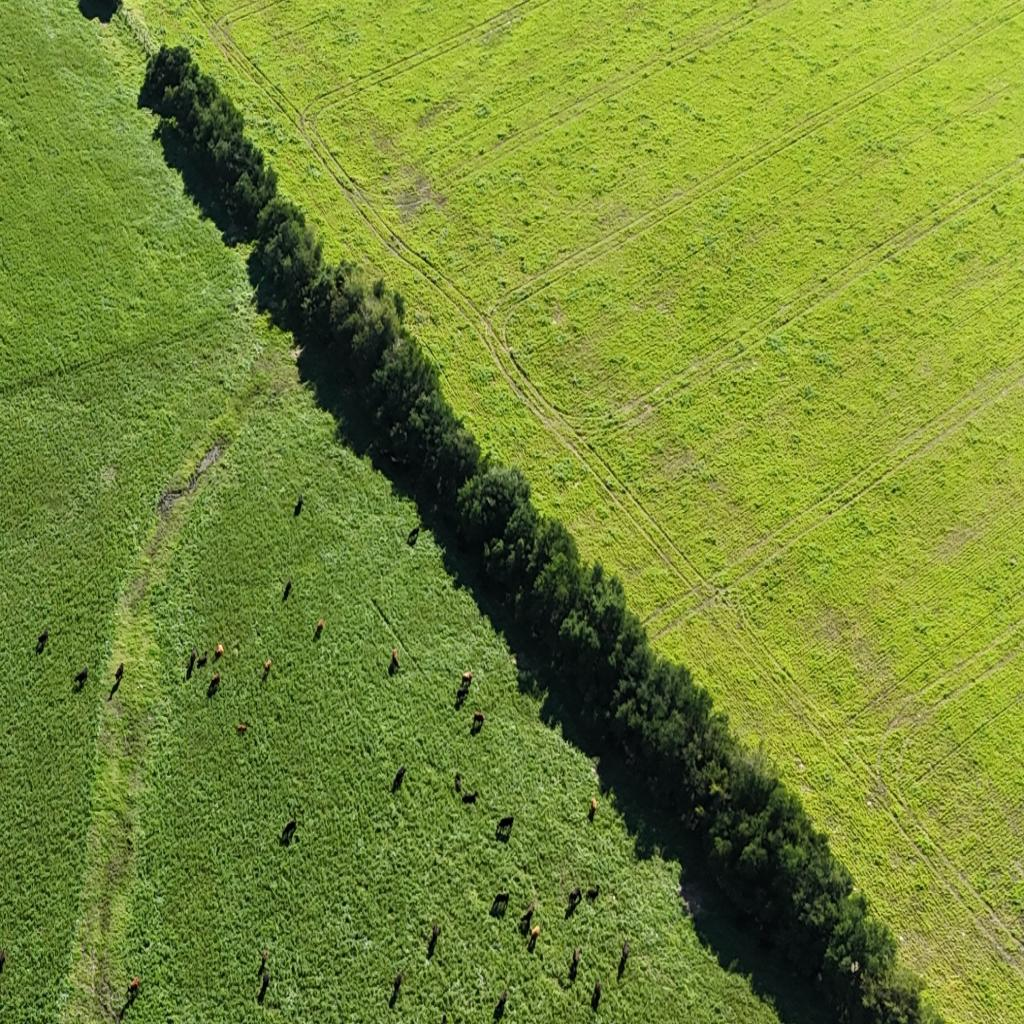cow: (280, 817, 298, 845), (260, 950, 272, 990), (110, 663, 124, 695), (618, 940, 630, 976), (391, 972, 404, 1005), (72, 666, 89, 690), (491, 892, 508, 916), (494, 990, 507, 1021), (496, 815, 514, 837), (428, 922, 440, 955), (392, 766, 406, 792), (127, 975, 140, 1000), (528, 924, 540, 950), (568, 890, 582, 912), (592, 980, 602, 1009), (523, 902, 536, 924), (37, 628, 49, 651), (408, 524, 420, 545), (463, 791, 479, 806), (586, 884, 599, 902), (390, 647, 400, 670), (209, 671, 220, 691), (294, 494, 304, 515), (588, 796, 597, 819), (456, 687, 467, 705), (0, 948, 7, 976), (472, 710, 484, 726), (314, 618, 324, 637), (571, 947, 580, 968), (462, 670, 473, 686), (262, 658, 271, 677), (216, 643, 225, 661), (454, 772, 463, 790), (284, 579, 292, 599), (190, 647, 197, 666), (236, 721, 248, 732), (127, 837, 133, 850)
